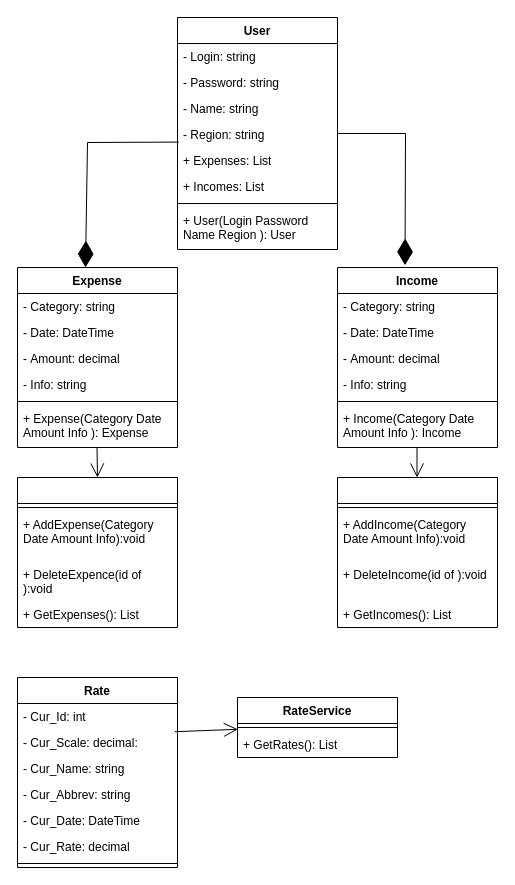
The diagram is 515 pixels wide and 885 high, and some of its shapes have lost their labels. Here are the shapes that lost their labels. From the top down, the box of each, then its label:
(16, 476, 178, 628): ExpenseService
(336, 476, 498, 628): IncomeService
